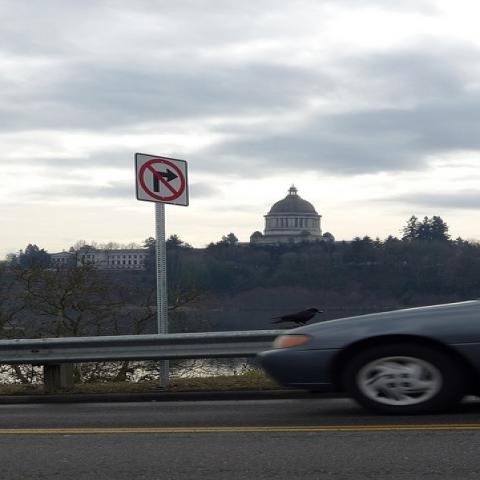car: (256, 298, 478, 413)
